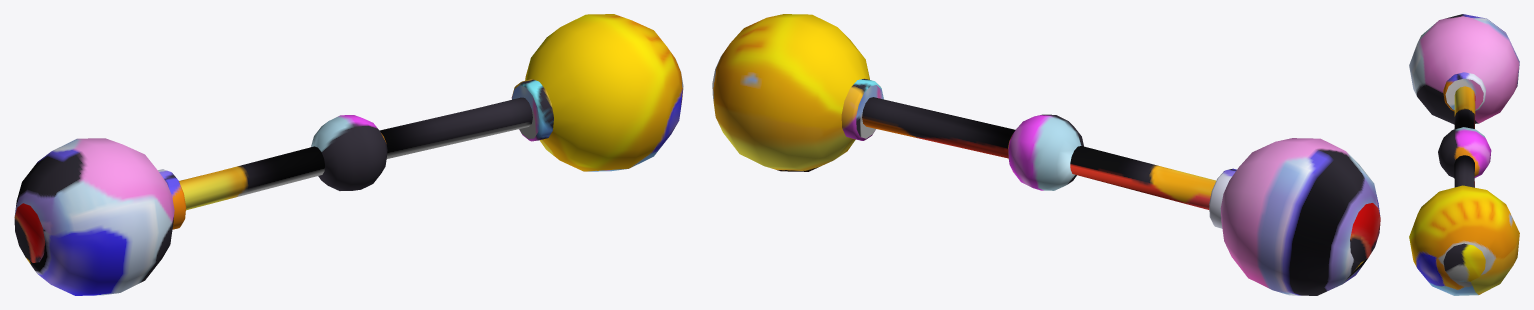
The model's file is dif10.2.fbx.
3 views of the same model, side by side, from view 1: azimuth 30°, elevation 25°; view 2: azimuth 150°, elevation 25°; view 3: azimuth 270°, elevation 25° (orthographic). The views are drawn at different scales.
Visible parts, largest first — view 1: Cylinder.007; view 2: Cylinder.007; view 3: Cylinder.007.
Boxes of the visible parts, x1=… form: Cylinder.007: x1=14, y1=14, x2=683, y2=295; Cylinder.007: x1=712, y1=14, x2=1380, y2=295; Cylinder.007: x1=1409, y1=14, x2=1519, y2=295.
Size of the model in its own units: 1116 by 242 by 243.
